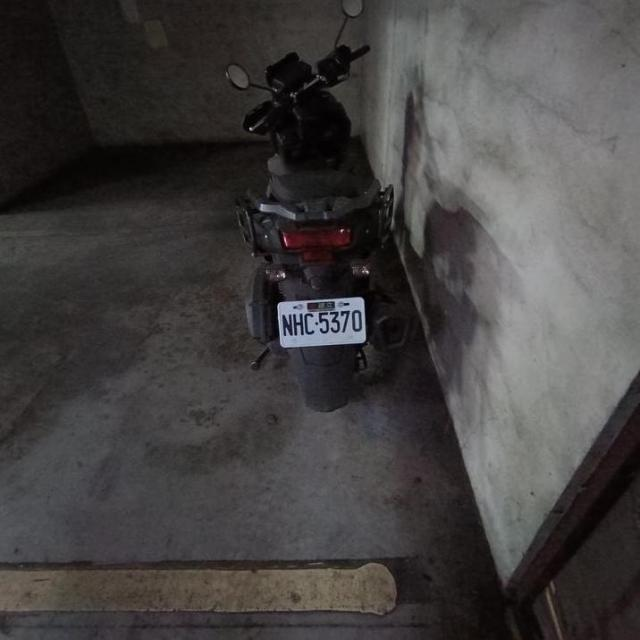W: (274, 292, 368, 348)
